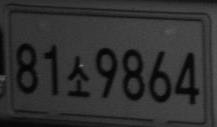1: (40, 43, 64, 96)
4: (173, 51, 200, 105)
6: (147, 50, 172, 103)
8: (120, 48, 146, 101), (14, 41, 39, 95)
9: (94, 46, 118, 98)
소: (65, 55, 91, 97)
